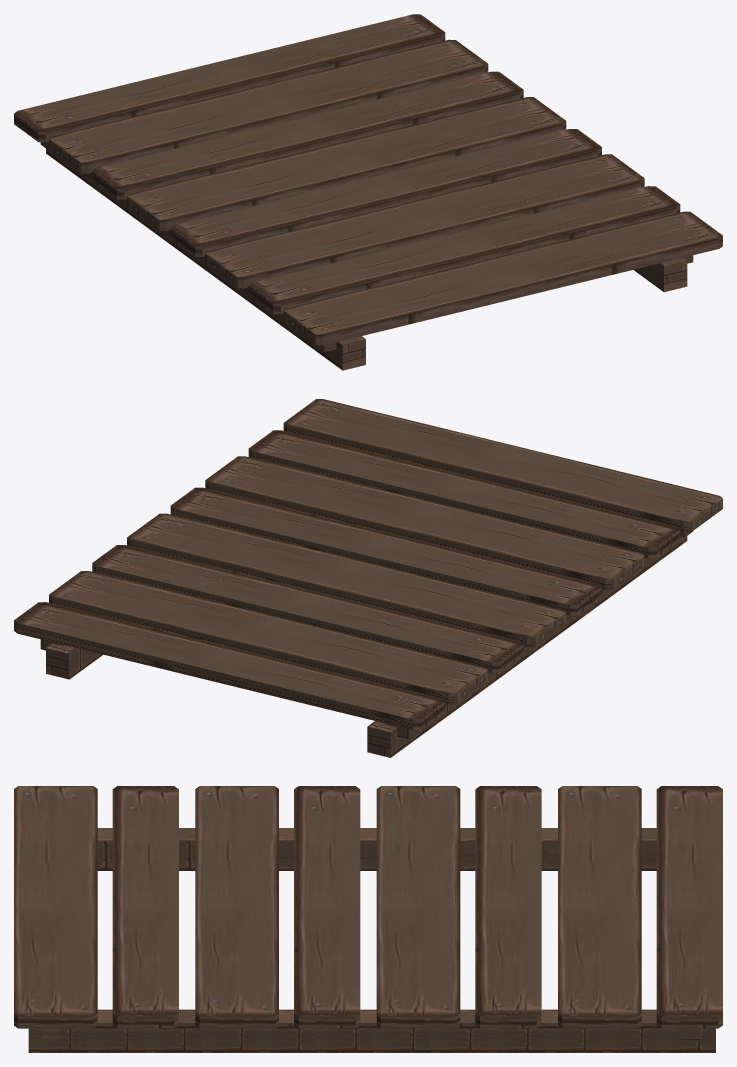
File: planks2.fbx
The picture shows the model from 3 angles, top to bottom: view 1: azimuth 30°, elevation 25°; view 2: azimuth 150°, elevation 25°; view 3: azimuth 270°, elevation 25°; orthographic projection. The views are drawn at different scales.
Visible parts, largest first — view 1: 立方体.007; view 2: 立方体.007; view 3: 立方体.007.
Part boxes in pixels (x1,y1,x2,y2): 立方体.007: [14, 14, 722, 370]; 立方体.007: [14, 399, 722, 757]; 立方体.007: [14, 786, 722, 1052].
Bounding box in the file's own units: 2521 × 277 × 3284.
